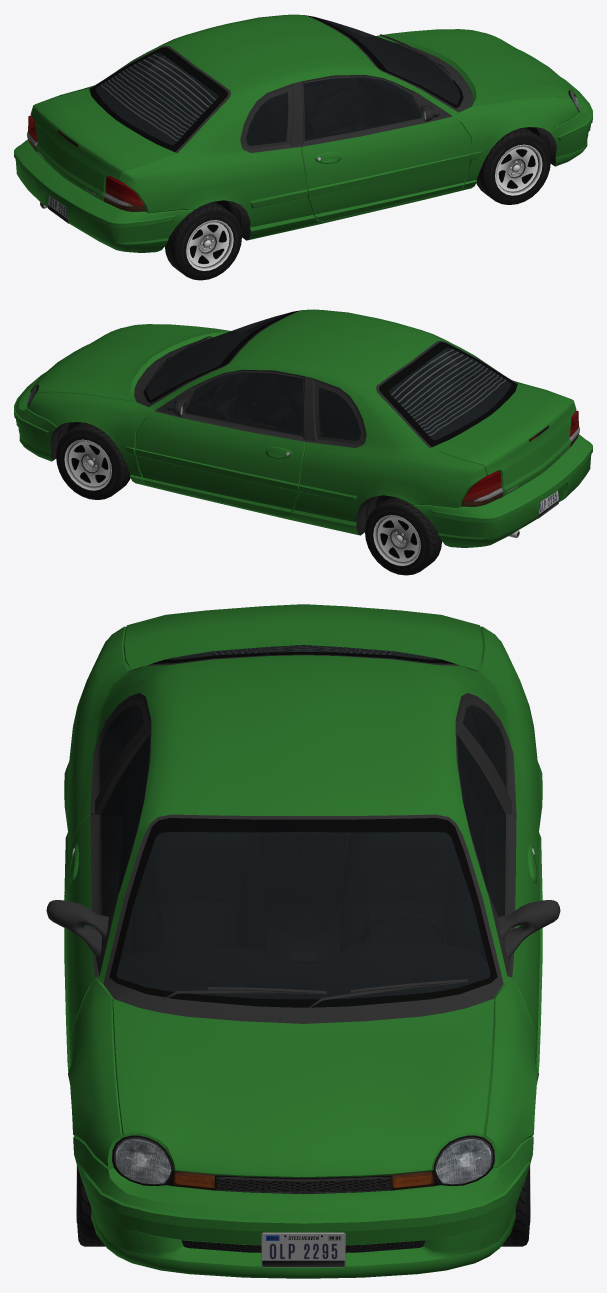
The model's file is olympic_95.glb.
3 renders of one model, top to bottom at view 1: azimuth 30°, elevation 25°; view 2: azimuth 150°, elevation 25°; view 3: azimuth 270°, elevation 25°, orthographic. The views are drawn at different scales.
Parts seen in each view (by area): view 1: Olimpic95_Body_Olimpic95_Bodymat_0, Olimpic95_Interior_UCB_Interiors_2_0, Olimpic95_Bottom_UCB_BOTTOM_0, Olimpic95_Trunkdoor_Olimpic95_Bodymat_0, Olimpic95_Hood_Olimpic95_Bodymat_0, Olimpic95_Bumper_Rear_Olimpic95_Bodymat_0, Olimpic95_Rear_Glass_UCB_Lights_and_Glass_Transperent_0, Olimpic95_Glass_Passanger_UCB_Lights_and_Glass_Transperent_0, Olimpic95_WheelStock_RR_RB1c_Tire_1k_0, Olimpic95_WheelStock_FR_RB1c_Tire_1k_0, Olimpic95_Windshield_UCB_Lights_and_Glass_Transperent_0, Olimpic95_Body_Glass_UCB_Lights_and_Glass_Transperent_0 (+3 smaller); view 2: Olimpic95_Body_Olimpic95_Bodymat_0, Olimpic95_Interior_UCB_Interiors_2_0, Olimpic95_Bottom_UCB_BOTTOM_0, Olimpic95_Trunkdoor_Olimpic95_Bodymat_0, Olimpic95_Hood_Olimpic95_Bodymat_0, Olimpic95_Bumper_Rear_Olimpic95_Bodymat_0, Olimpic95_Rear_Glass_UCB_Lights_and_Glass_Transperent_0, Olimpic95_Glass_Driver_UCB_Lights_and_Glass_Transperent_0, Olimpic95_WheelStock_RL_RB1c_Tire_1k_0, Olimpic95_WheelStock_FL_RB1c_Tire_1k_0, Olimpic95_Windshield_UCB_Lights_and_Glass_Transperent_0, Olimpic95_Body_Glass_UCB_Lights_and_Glass_Transperent_0 (+4 smaller); view 3: Olimpic95_Body_Olimpic95_Bodymat_0, Olimpic95_Interior_UCB_Interiors_2_0, Olimpic95_Hood_Olimpic95_Bodymat_0, Olimpic95_Windshield_UCB_Lights_and_Glass_Transperent_0, Olimpic95_Bottom_UCB_BOTTOM_0, Olimpic95_Bumper_Front_Olimpic95_Bodymat_0, Olimpic95_Trunkdoor_Olimpic95_Bodymat_0, Olimpic95_Headlights_Glass_UCB_Lights_and_Glass_Transperent_, Olimpic95_Glass_Driver_UCB_Lights_and_Glass_Transperent_0, Olimpic95_Glass_Passanger_UCB_Lights_and_Glass_Transperent_0, Olimpic95_Headlights_UCB_Lights_and_Glass_0, Olimpic95_Body_Glass_UCB_Lights_and_Glass_Transperent_0 (+6 smaller).
Boxes of the visible parts, x1,y1,x2,y2 form: Olimpic95_Body_Olimpic95_Bodymat_0: [30, 14, 579, 240]; Olimpic95_Interior_UCB_Interiors_2_0: [96, 21, 459, 145]; Olimpic95_Bottom_UCB_BOTTOM_0: [40, 15, 579, 240]; Olimpic95_Trunkdoor_Olimpic95_Bodymat_0: [31, 88, 176, 201]; Olimpic95_Hood_Olimpic95_Bodymat_0: [377, 29, 574, 106]; Olimpic95_Bumper_Rear_Olimpic95_Bodymat_0: [14, 139, 193, 252]; Olimpic95_Rear_Glass_UCB_Lights_and_Glass_Transperent_0: [95, 52, 218, 145]; Olimpic95_Glass_Passanger_UCB_Lights_and_Glass_Transperent_0: [303, 77, 421, 140]; Olimpic95_WheelStock_RR_RB1c_Tire_1k_0: [165, 202, 241, 280]; Olimpic95_WheelStock_FR_RB1c_Tire_1k_0: [476, 127, 550, 204]; Olimpic95_Windshield_UCB_Lights_and_Glass_Transperent_0: [319, 18, 460, 104]; Olimpic95_Body_Glass_UCB_Lights_and_Glass_Transperent_0: [148, 56, 288, 145]; Olimpic95_Body_Olimpic95_Bodymat_0: [27, 309, 576, 535]; Olimpic95_Interior_UCB_Interiors_2_0: [147, 316, 510, 440]; Olimpic95_Bottom_UCB_BOTTOM_0: [27, 310, 519, 537]; Olimpic95_Trunkdoor_Olimpic95_Bodymat_0: [430, 383, 575, 496]; Olimpic95_Hood_Olimpic95_Bodymat_0: [32, 324, 229, 401]; Olimpic95_Bumper_Rear_Olimpic95_Bodymat_0: [413, 434, 592, 547]; Olimpic95_Rear_Glass_UCB_Lights_and_Glass_Transperent_0: [388, 347, 511, 440]; Olimpic95_Glass_Driver_UCB_Lights_and_Glass_Transperent_0: [185, 372, 303, 435]; Olimpic95_WheelStock_RL_RB1c_Tire_1k_0: [365, 497, 441, 575]; Olimpic95_WheelStock_FL_RB1c_Tire_1k_0: [56, 422, 130, 499]; Olimpic95_Windshield_UCB_Lights_and_Glass_Transperent_0: [146, 313, 287, 399]; Olimpic95_Body_Glass_UCB_Lights_and_Glass_Transperent_0: [318, 351, 458, 440]; Olimpic95_Body_Olimpic95_Bodymat_0: [64, 626, 542, 1167]; Olimpic95_Interior_UCB_Interiors_2_0: [101, 646, 505, 998]; Olimpic95_Hood_Olimpic95_Bodymat_0: [112, 999, 494, 1177]; Olimpic95_Windshield_UCB_Lights_and_Glass_Transperent_0: [116, 832, 490, 999]; Olimpic95_Bottom_UCB_BOTTOM_0: [46, 645, 560, 1194]; Olimpic95_Bumper_Front_Olimpic95_Bodymat_0: [73, 1136, 533, 1278]; Olimpic95_Trunkdoor_Olimpic95_Bodymat_0: [123, 604, 483, 671]; Olimpic95_Headlights_Glass_UCB_Lights_and_Glass_Transperent_: [115, 1139, 491, 1189]; Olimpic95_Glass_Driver_UCB_Lights_and_Glass_Transperent_0: [457, 734, 505, 916]; Olimpic95_Glass_Passanger_UCB_Lights_and_Glass_Transperent_0: [101, 734, 149, 916]; Olimpic95_Headlights_UCB_Lights_and_Glass_0: [116, 1139, 490, 1183]; Olimpic95_Body_Glass_UCB_Lights_and_Glass_Transperent_0: [100, 705, 506, 787].
Bounding box in the file's own units: 4.22 × 1.31 × 1.82.
8 materials, 7 textured.
